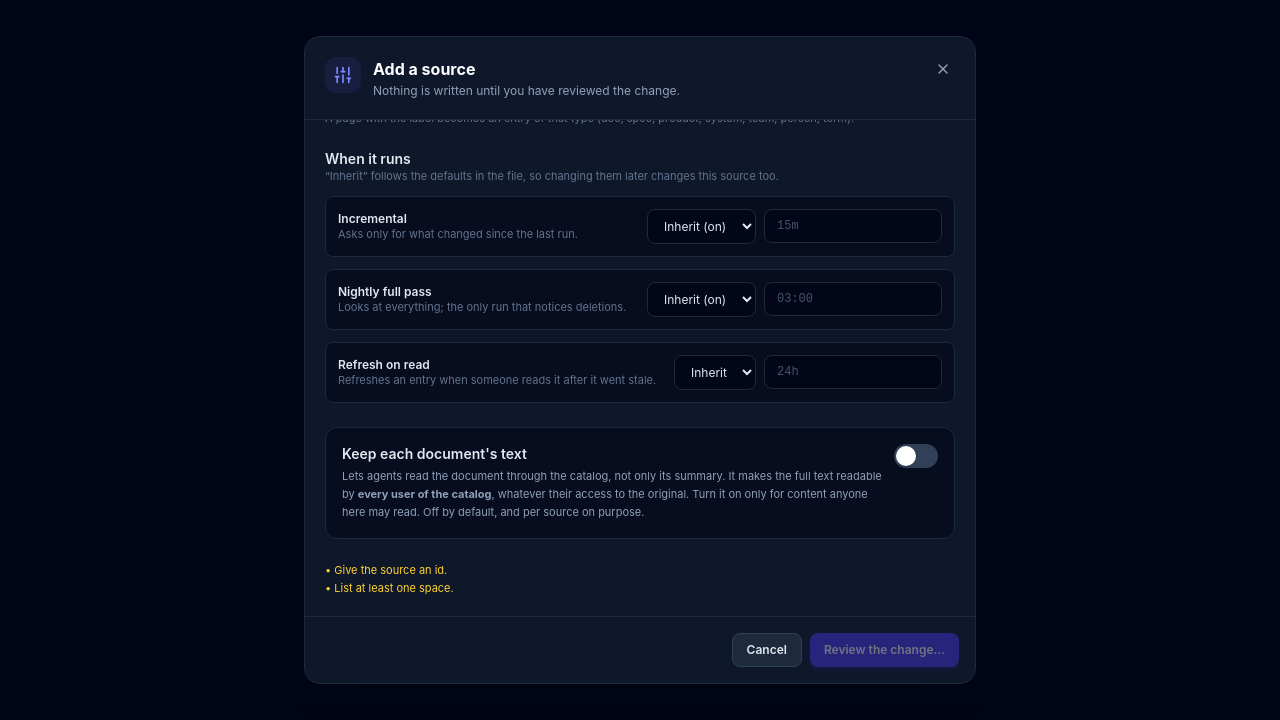
Scenario: SourceEditorModal › keeps stored text off, and explains who could read it when it is turned on
(page scrolled)
Expected: the text "every user of the catalog" is shown, [358,487,492,501]
Expected: the field labelled "Largest document kept" is not shown
Click the switch named "keep each document's text".
click(916, 456)  # box [894,444,938,468]
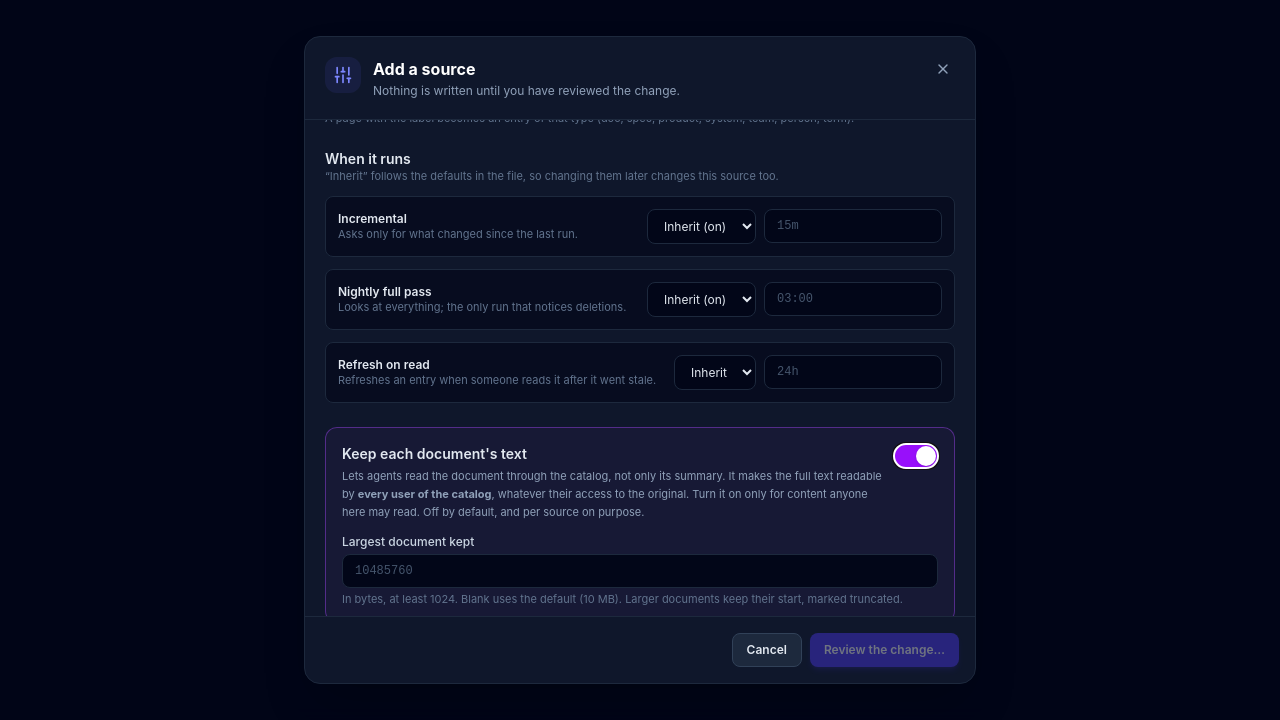
Expected: the field labelled "Largest document kept" is shown, [342,554,938,588]
